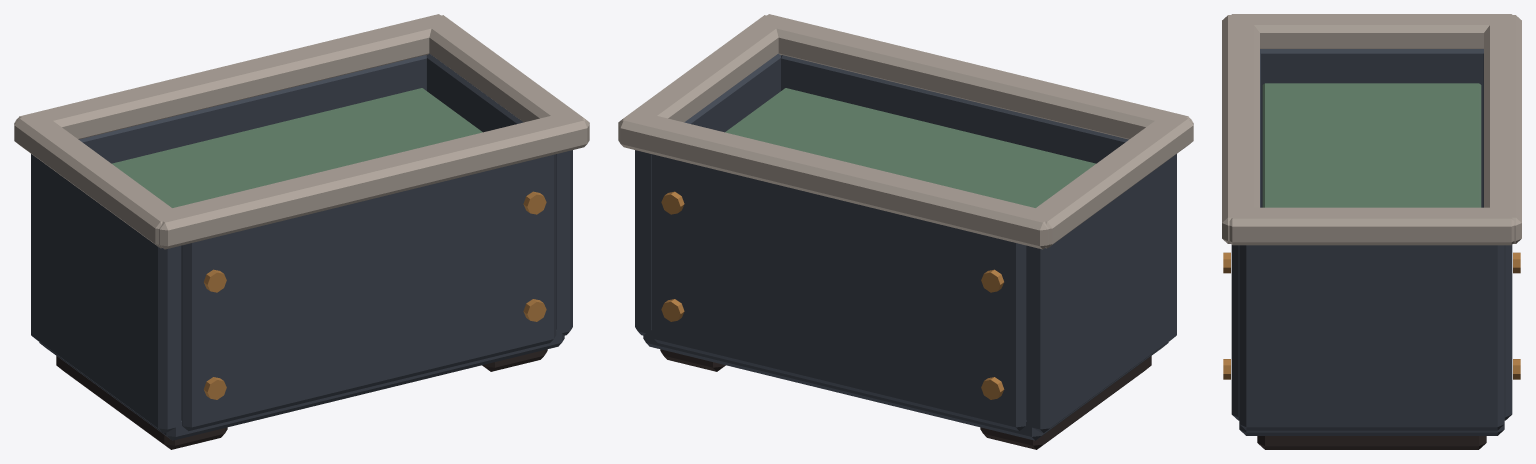
File: 03_Quench_Tank.glb
The picture shows the model from 3 angles, left to right: view 1: azimuth 30°, elevation 25°; view 2: azimuth 150°, elevation 25°; view 3: azimuth 270°, elevation 25°; orthographic projection.
Parts seen in each view (by area): view 1: 03_Quench_Tank__Body; view 2: 03_Quench_Tank__Body; view 3: 03_Quench_Tank__Body.
Boxes of the visible parts, box(x1,y1,x2,y2) form: 03_Quench_Tank__Body: box(14, 14, 589, 449); 03_Quench_Tank__Body: box(618, 14, 1193, 449); 03_Quench_Tank__Body: box(1222, 14, 1521, 449).
Size of the model in its own units: 2.88 by 1.57 by 1.74.
1 material, 1 textured.
